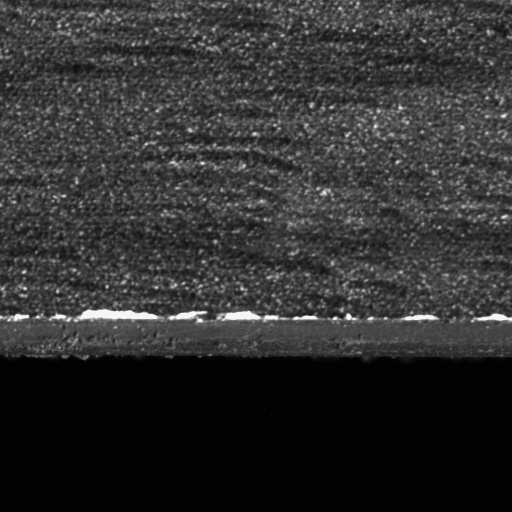huashang: (77, 309, 166, 322), (216, 311, 263, 324), (171, 310, 207, 322), (471, 313, 511, 321), (401, 313, 440, 321)
